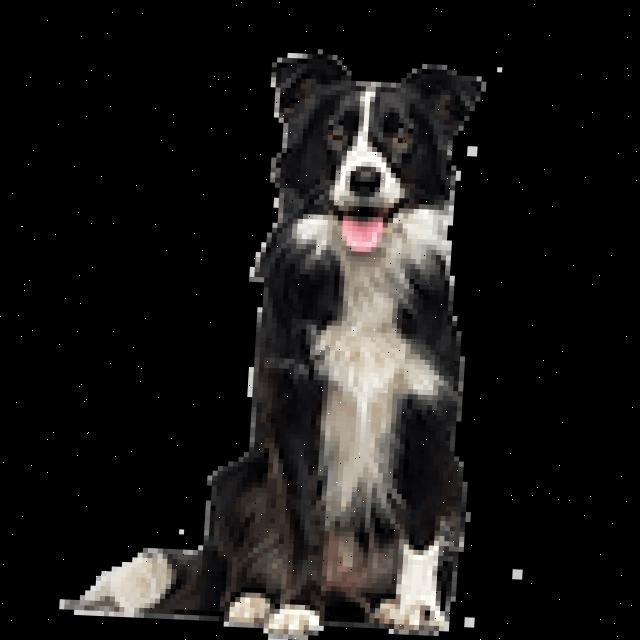BORDER_COLLIE: (55, 19, 526, 640)
